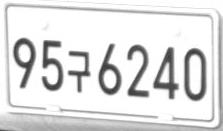0: (183, 47, 207, 101)
2: (126, 43, 149, 97)
4: (152, 46, 179, 100)
5: (41, 39, 64, 91)
6: (97, 43, 122, 95)
9: (12, 37, 36, 88)
구: (67, 50, 91, 92)
